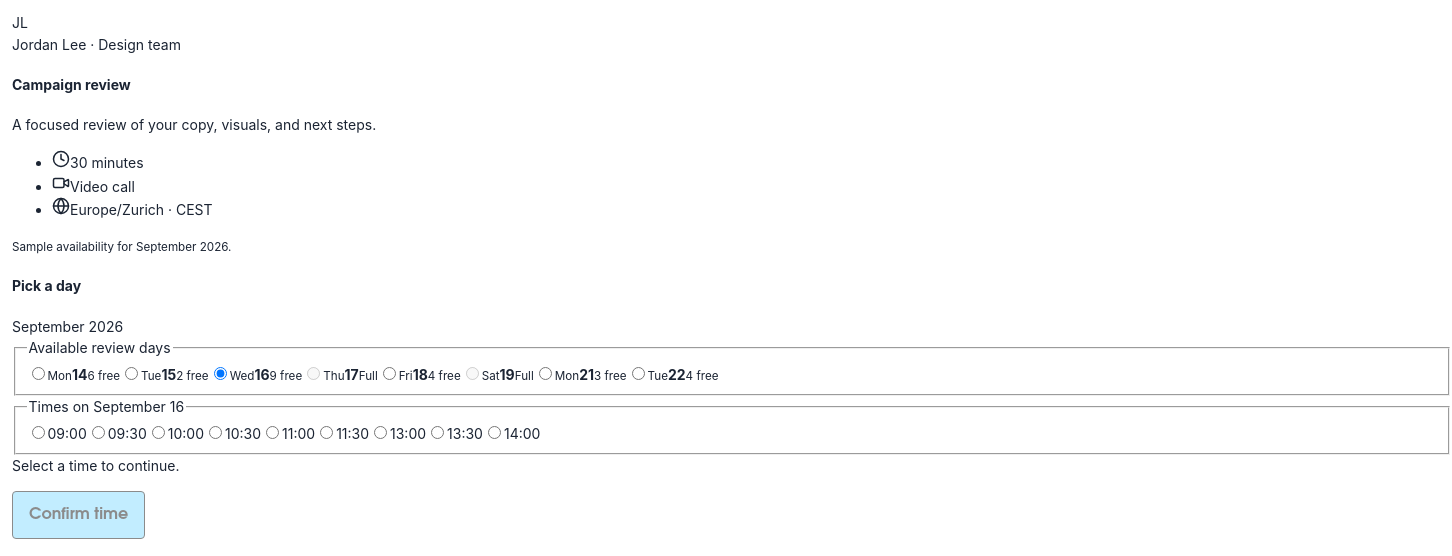
Test: UI blocks › changing a day clears the selected slot and confirms only available choices
Expected: the button "Confirm time" is disabled, [12, 491, 145, 539]
Expected: the radio button with aria-label "September 17" is disabled, [307, 367, 320, 380]
What coordinates should you click on to do the following:
click the radio button labelled "09:30"
I would click on:
 (98, 432)
Its box is [92, 426, 105, 439].
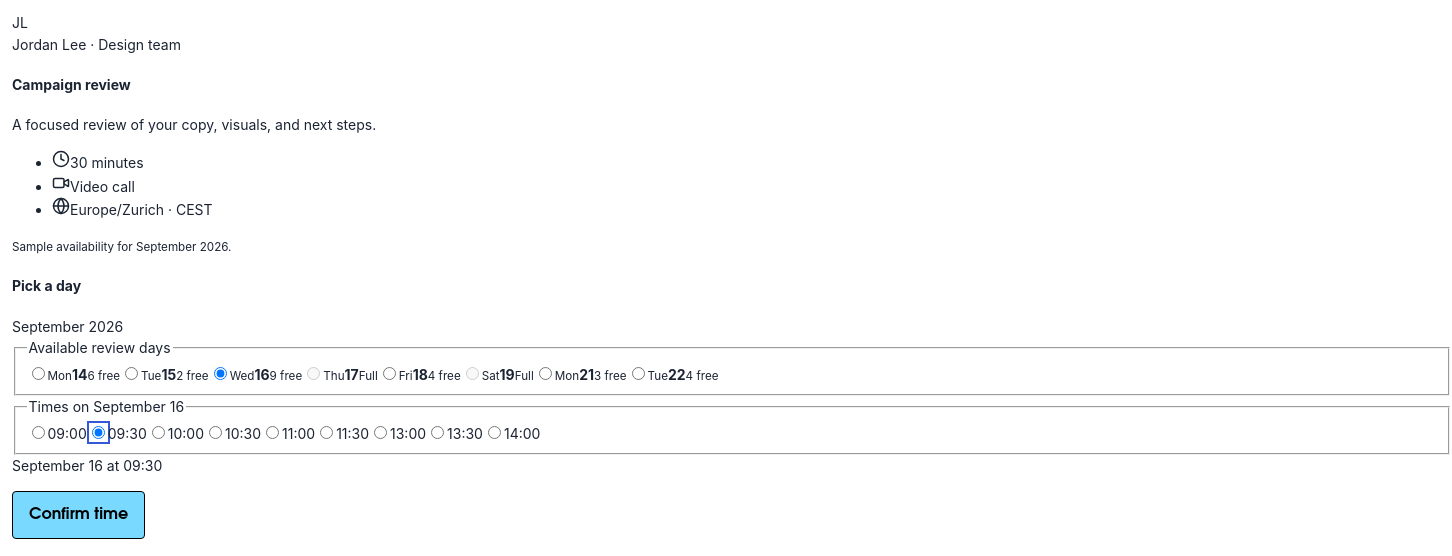
What coordinates should you click on to do the following:
click the radio button with aria-label "September 15"
I would click on:
 (132, 373)
Its box is [125, 367, 138, 380].
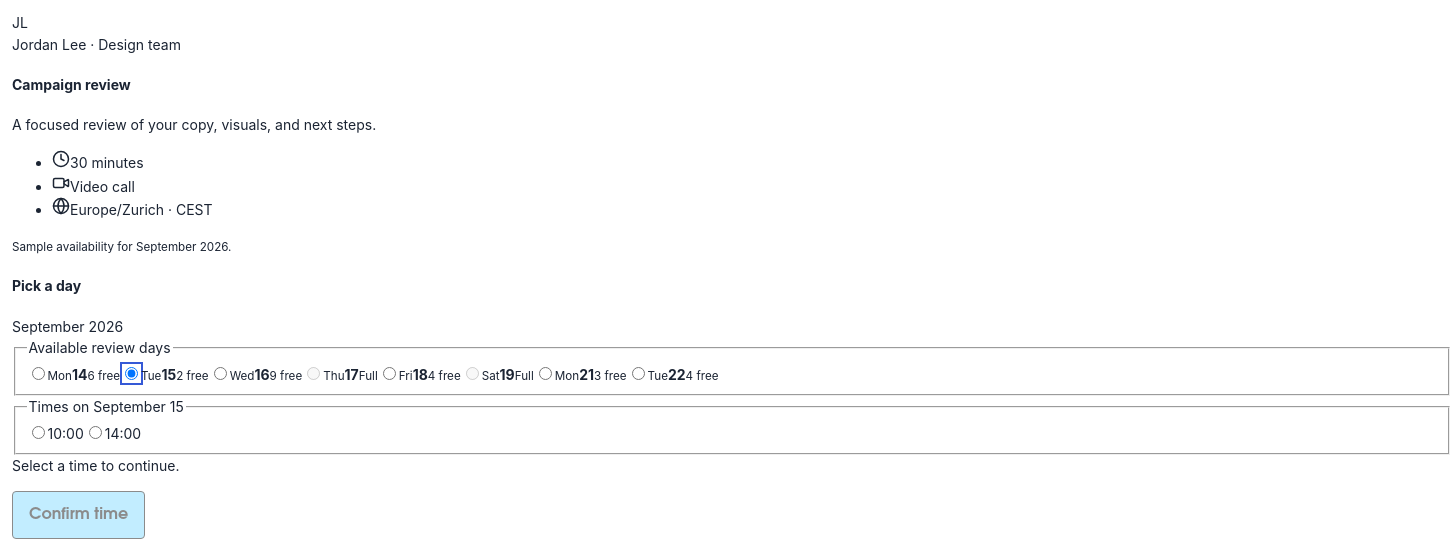
Result: the button "Confirm time" is disabled at [12, 491, 145, 539]
Result: the text "09:30" is gone
What coordinates should you click on to do the following:
click the radio button labelled "14:00"
I would click on:
 (95, 432)
Its box is [89, 426, 102, 439].
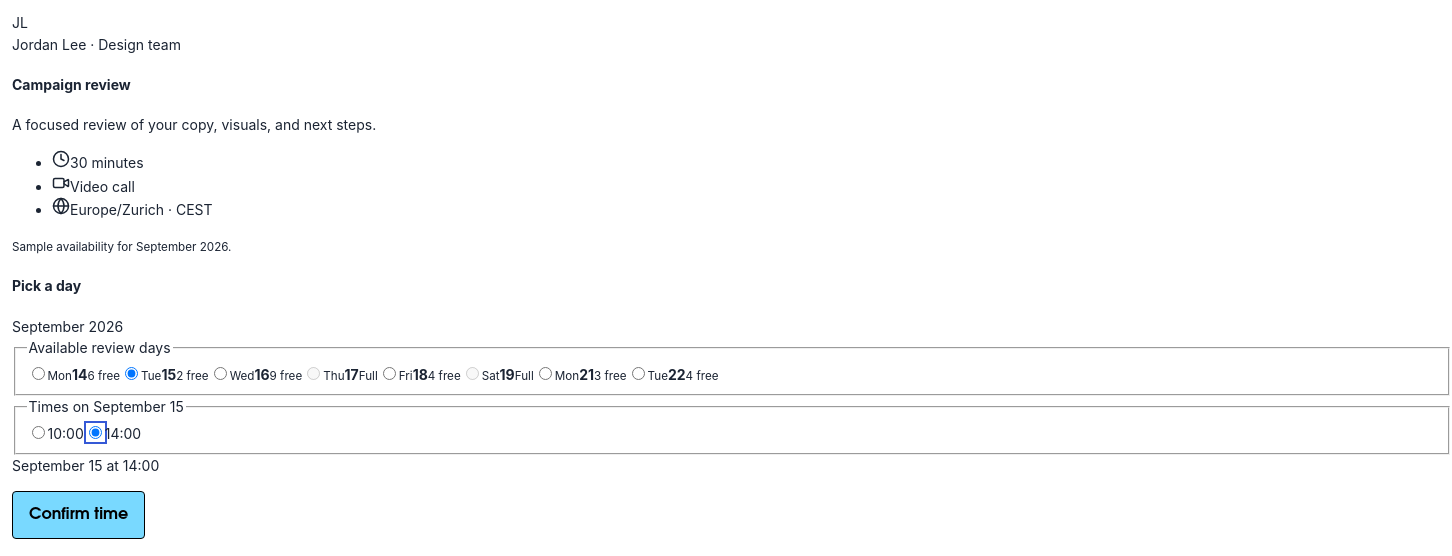
What coordinates should you click on to do the following:
click the button "Confirm time"
I would click on:
 (79, 515)
Its box is [12, 491, 145, 539].
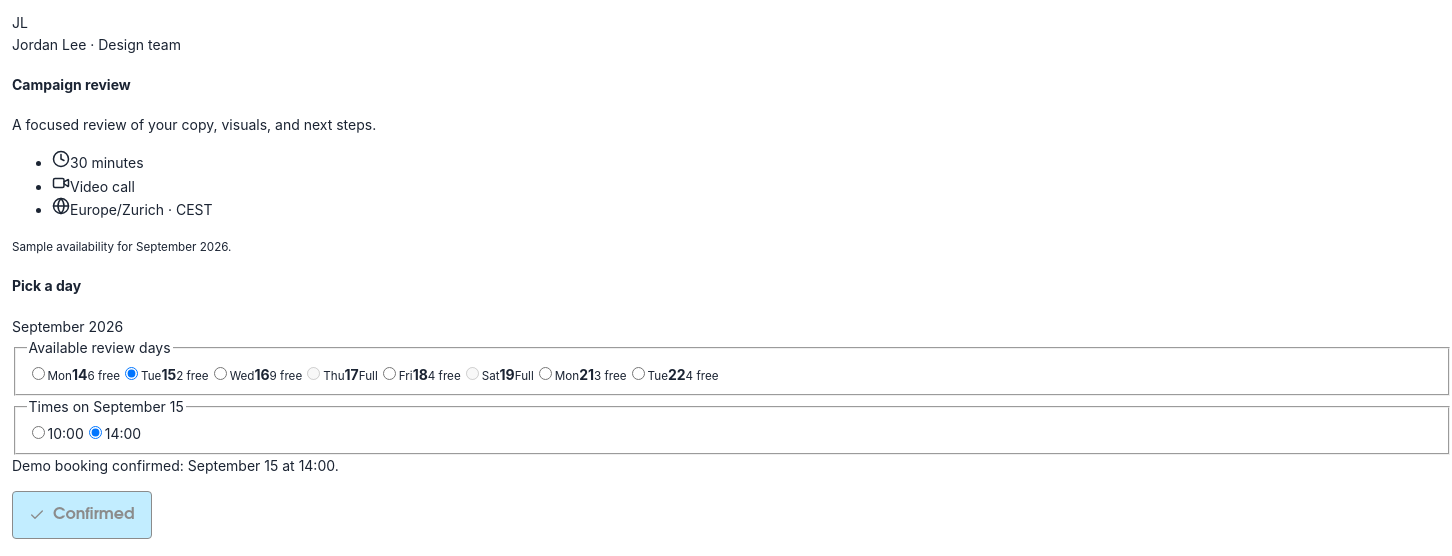
Result: the message shows "September 15 at 14:00" at [12, 457, 339, 474]
Result: the button "Confirmed" is disabled at [12, 491, 152, 539]
